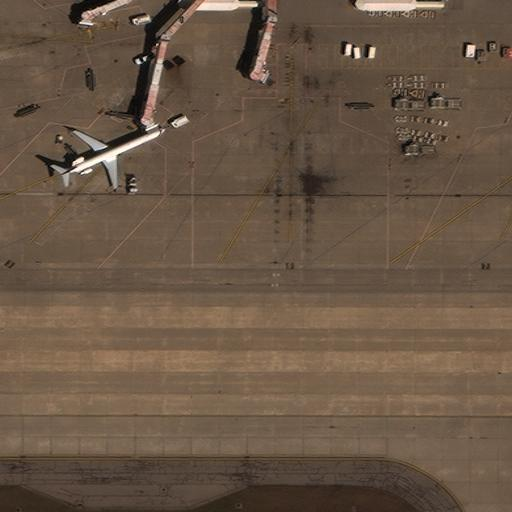Medium Civil Transport: (60, 129, 165, 188)
